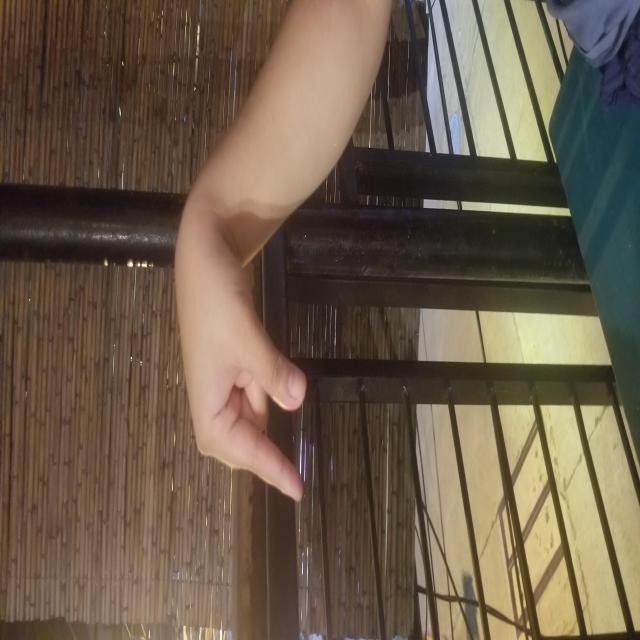Q: (142, 188, 341, 545)
